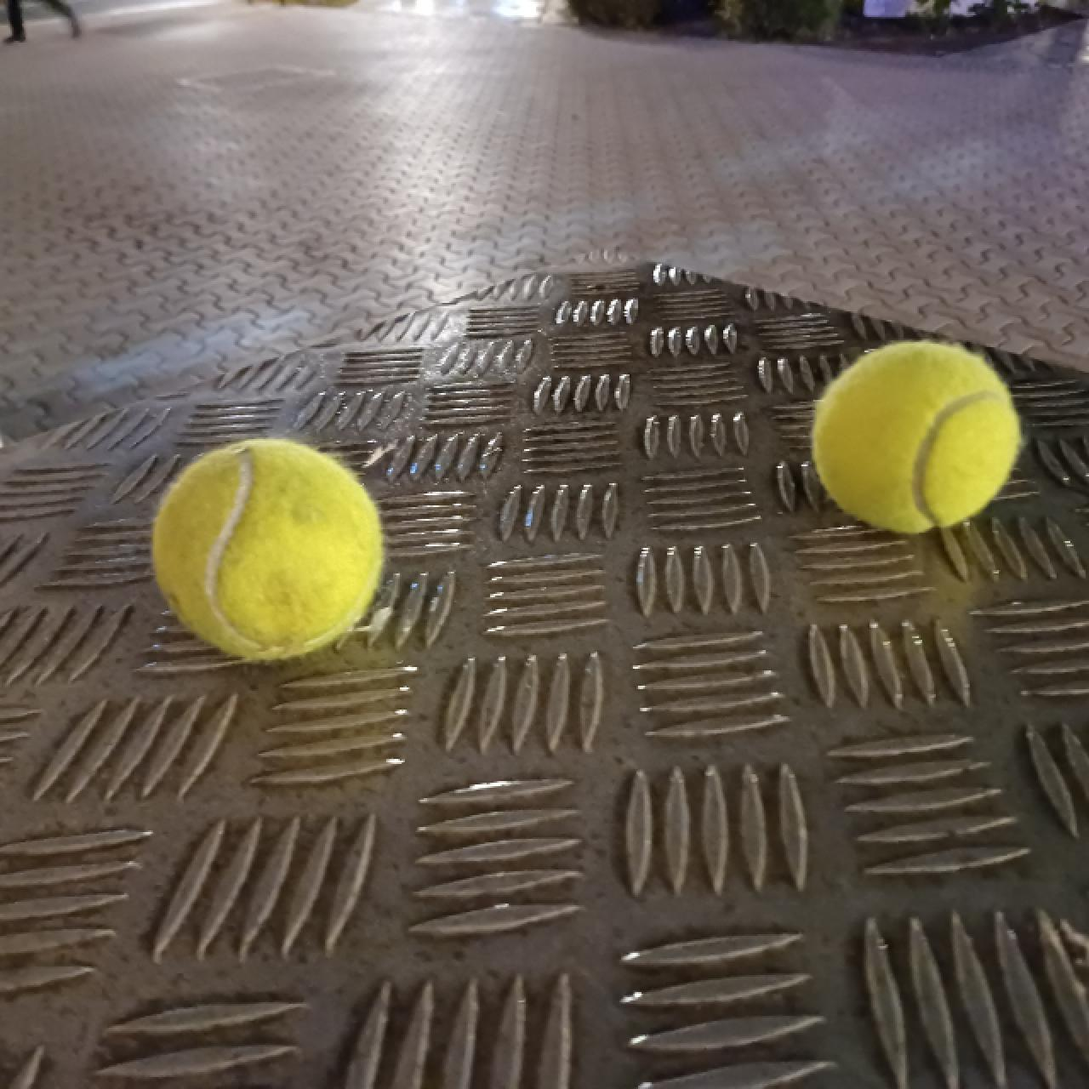tennis-ball: (148, 435, 383, 664), (808, 339, 1022, 537)
